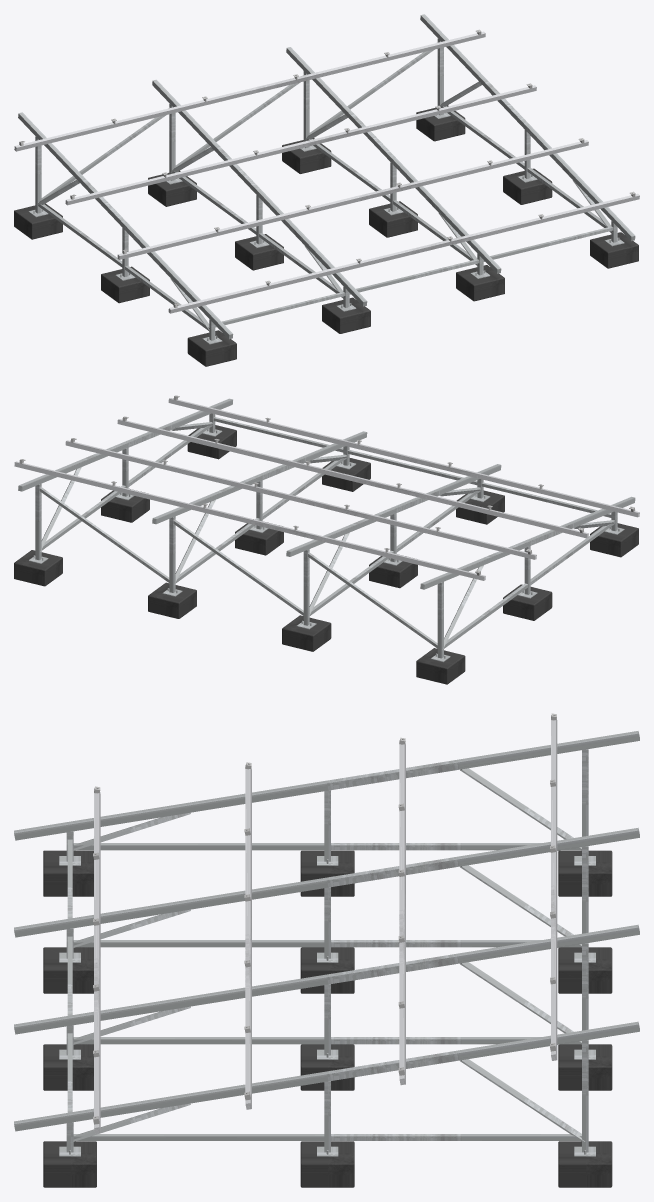
Rendered from solar_structure.glb.
3 views of the same model, one above another, from view 1: azimuth 30°, elevation 25°; view 2: azimuth 150°, elevation 25°; view 3: azimuth 270°, elevation 25° (orthographic). The views are drawn at different scales.
Visible parts, largest first — view 1: Rail_1, Rail_2, Rail_3, Rail_4, Rafter_4, Rafter_2, Rafter_3, Rafter_1, Ballast_1_1, Ballast_4_1, Ballast_3_1, Ballast_2_1 (+18 smaller); view 2: Rail_4, Rail_3, Rail_2, Rail_1, Rafter_2, Rafter_1, Rafter_4, Rafter_3, Ballast_2_3, Ballast_1_3, Ballast_4_3, Ballast_3_3 (+22 smaller); view 3: Rafter_3, Rafter_1, Rafter_4, Rafter_2, Tie_4, Tie_1, Tie_3, Tie_2, Ballast_4_2, Ballast_4_3, Ballast_4_1, Rail_4 (+21 smaller).
Boxes of the visible parts, x1,y1,x2,y2 form: Rail_1: (168, 193, 639, 313); Rail_2: (117, 140, 588, 259); Rail_3: (65, 85, 536, 205); Rail_4: (14, 31, 485, 151); Rafter_4: (420, 14, 635, 241); Rafter_2: (152, 79, 367, 306); Rafter_3: (286, 47, 501, 273); Rafter_1: (18, 112, 233, 339); Ballast_1_1: (187, 330, 236, 366); Ballast_4_1: (590, 232, 638, 268); Ballast_3_1: (456, 265, 504, 301); Ballast_2_1: (322, 297, 370, 333); Rail_4: (14, 461, 485, 580); Rail_3: (65, 440, 536, 559); Rail_2: (117, 419, 588, 538); Rail_1: (168, 398, 639, 517); Rafter_2: (286, 464, 501, 556); Rafter_1: (420, 496, 635, 589); Rafter_4: (18, 398, 232, 491); Rafter_3: (152, 431, 367, 524); Ballast_2_3: (282, 615, 331, 651); Ballast_1_3: (416, 648, 465, 684); Ballast_4_3: (14, 550, 62, 586); Ballast_3_3: (148, 582, 196, 618); Rafter_3: (14, 924, 639, 1034); Rafter_1: (14, 731, 639, 840); Rafter_4: (14, 1021, 639, 1131); Rafter_2: (14, 827, 639, 937); Tie_4: (73, 1134, 581, 1140); Tie_1: (73, 843, 581, 850); Tie_3: (73, 1037, 581, 1044); Tie_2: (73, 940, 581, 947); Ballast_4_2: (300, 1141, 354, 1187); Ballast_4_3: (558, 1141, 612, 1187); Ballast_4_1: (43, 1141, 96, 1187); Rail_4: (551, 716, 557, 1060).
Size of the model in its own units: 5.95 by 1.26 by 4.64.
Materials: 110 (86 with a texture image).
